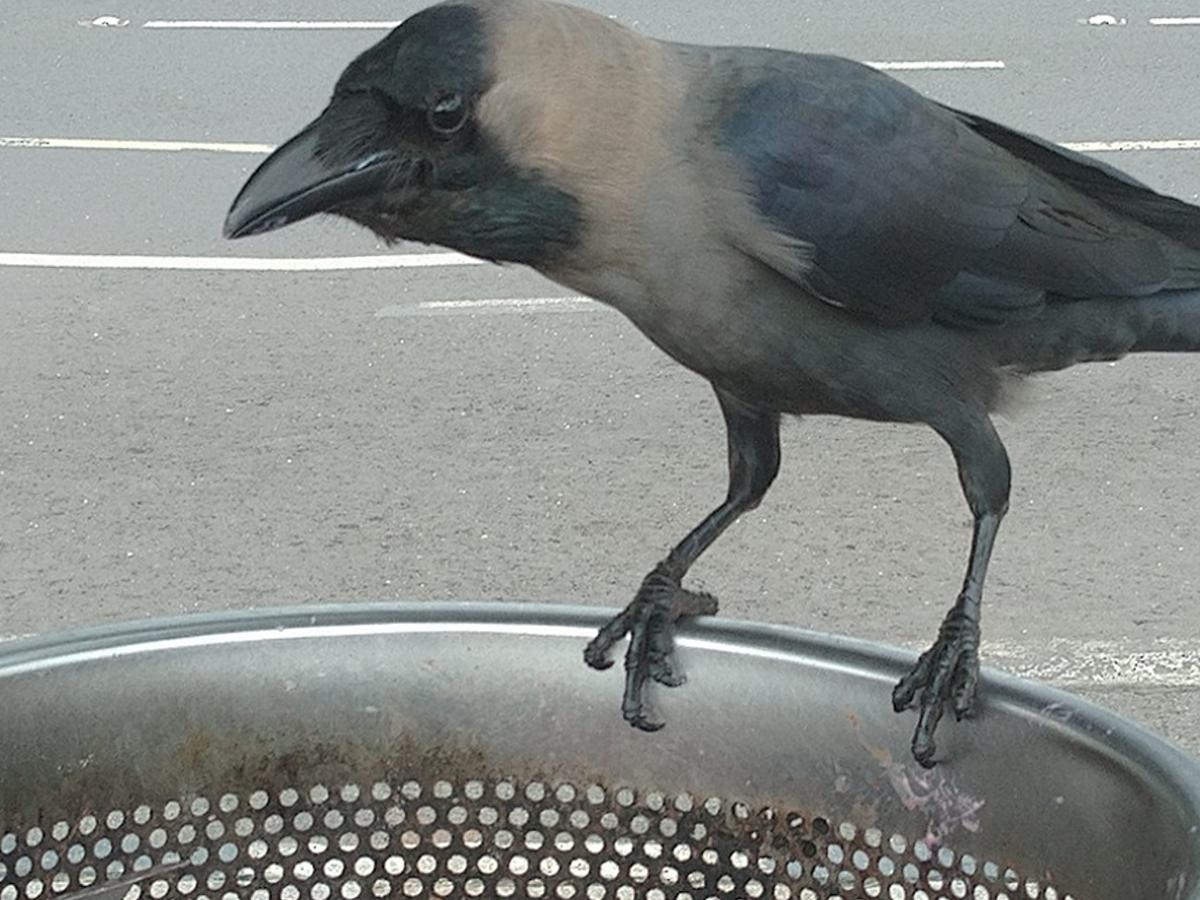crow: (239, 4, 1200, 748)
